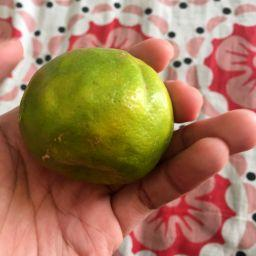Unripe: (21, 49, 176, 187)
